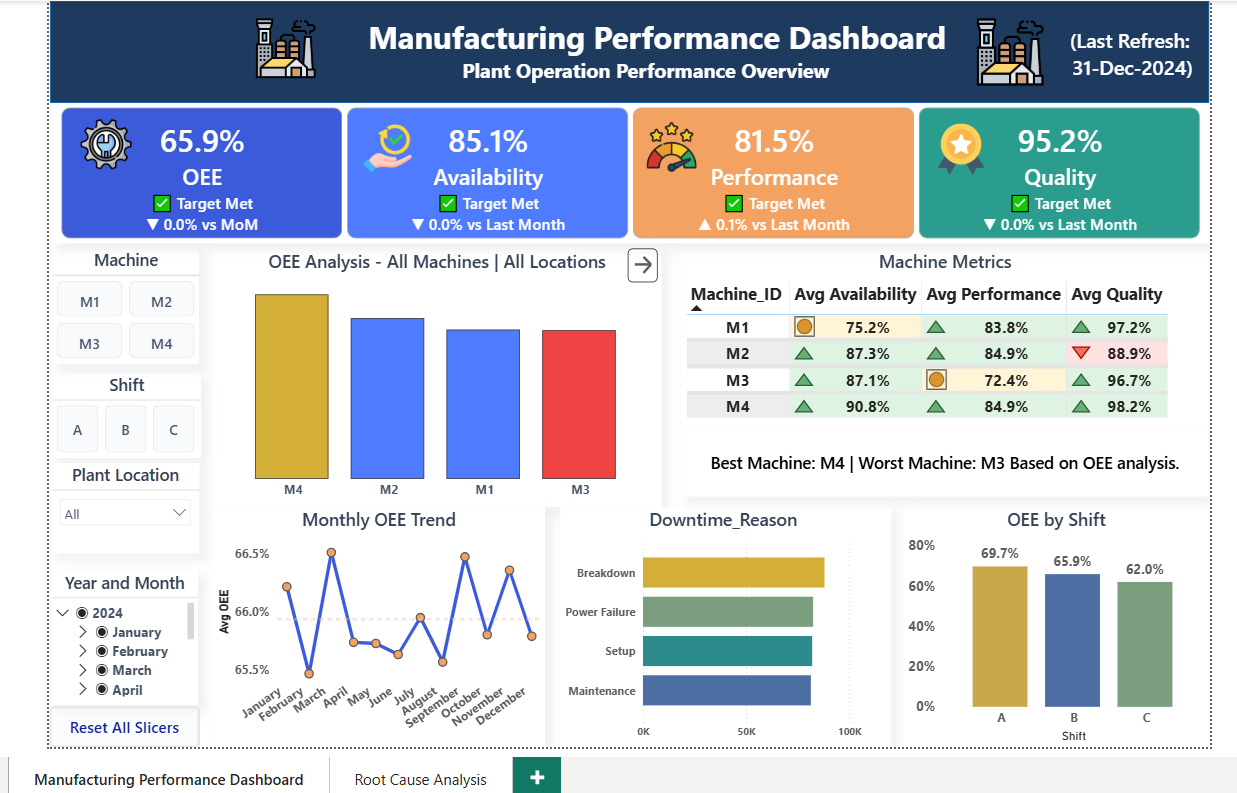

What the dashboard file says about the page in this screenshot:
{"tool":"powerbi","page":{"name":"Manufacturing Performance Dashboard ","canvas":[1400,900],"ordinal":0},"visuals":[{"type":"shape","box":[1.6,0,1398.1,123.1],"z":0},{"type":"tableEx","title":"Machine Metrics","fields":{"Values":["dim_machine.Machine_ID","fact_production.Avg Availability","fact_production.Avg Performance","fact_production.Avg Quality"]},"box":[763.8,298.2,635.9,222.5],"z":1000},{"type":"clusteredColumnChart","fields":{"Category":["dim_machine.Machine_ID"],"Y":["All Measures.Avg OEE"]},"box":[197.6,298.6,541.4,312.2],"z":2000},{"type":"textbox","box":[3.4,0,1362.9,123.1],"z":3000},{"type":"clusteredBarChart","title":"Downtime_Reason","fields":{"Category":["dim_downtime.Downtime_Reason"],"Y":["Sum(fact_production.Downtime)"]},"box":[617,610.7,399.2,288.8],"z":4000},{"type":"lineChart","title":"Monthly OEE Trend","fields":{"Category":["dim_date.Date.Variation.Date Hierarchy.Month"],"Y":["fact_production.Avg OEE"]},"box":[197.3,610.7,400.8,288.8],"z":5000},{"type":"columnChart","title":"OEE by Shift","fields":{"Category":["dim_shift.Shift"],"Y":["fact_production.Avg OEE"]},"box":[1032,610.7,367.7,288.8],"z":6000},{"type":"cardVisual","fields":{"Data":["fact_production.Avg OEE","fact_production.Avg Availability","fact_production.Avg Performance","fact_production.Avg Quality"]},"box":[4.7,123.1,1395,168.8],"z":7000},{"type":"image","box":[369.3,143.6,77.3,71],"z":8000},{"type":"image","box":[30,137.3,77.3,71],"z":9000},{"type":"image","box":[716.4,137.3,69.4,77.3],"z":10000},{"type":"image","box":[1062,143.6,77.3,71],"z":11000},{"type":"advancedSlicerVisual","title":"Machine","fields":{"Values":["dim_machine.Machine_ID"]},"box":[4.7,298.2,176.7,138.9],"z":12000},{"type":"advancedSlicerVisual","fields":{"Values":["dim_shift.Shift"]},"box":[5.1,448.7,178.8,101.2],"z":13000},{"type":"slicer","title":"Plant Location","fields":{"Values":["dim_location.Plant_Location"]},"box":[3.2,558.6,178.3,108.9],"z":14000},{"type":"listSlicer","fields":{"Values":["dim_date.Date.Variation.Date Hierarchy.Year","dim_date.Date.Variation.Date Hierarchy.Month","dim_date.Date.Variation.Date Hierarchy.Day"]},"box":[3.4,688.2,177.1,161.9],"z":15000},{"type":"card","fields":{"Values":["dim_date.Machine Insight"]},"box":[763.8,520.7,635.9,77.3],"z":16000},{"type":"image","box":[1082.9,15.2,153.5,92.8],"z":17000},{"type":"image","box":[217.6,15.2,136.6,84.3],"z":18000},{"type":"card","fields":{"Values":["All Measures.Last Refresh"]},"box":[1216.1,15.2,183.9,92.8],"z":19000},{"type":"actionButton","box":[0,850.1,182.2,50.6],"z":20000},{"type":"actionButton","box":[698.2,298.6,36.2,40.7],"z":21000}]}

Visuals, with their boxes on the page's 1400x900 design canvas (x1, y1, x2, y2). These are canvas units, not pixel positions in the 1237x793 screenshot, which may show the page scaled, cropped or inside an application window:
shape: bbox(2, 0, 1400, 123)
"Machine Metrics" tableEx: bbox(764, 298, 1400, 521)
clusteredColumnChart - dim_machine.Machine_ID x All Measures.Avg OEE: bbox(198, 299, 739, 611)
textbox: bbox(3, 0, 1366, 123)
"Downtime_Reason" clusteredBarChart: bbox(617, 611, 1016, 900)
"Monthly OEE Trend" lineChart: bbox(197, 611, 598, 900)
"OEE by Shift" columnChart: bbox(1032, 611, 1400, 900)
cardVisual - fact_production.Avg OEE x fact_production.Avg Availability: bbox(5, 123, 1400, 292)
image: bbox(369, 144, 447, 215)
image: bbox(30, 137, 107, 208)
image: bbox(716, 137, 786, 215)
image: bbox(1062, 144, 1139, 215)
"Machine" advancedSlicerVisual: bbox(5, 298, 181, 437)
advancedSlicerVisual - dim_shift.Shift: bbox(5, 449, 184, 550)
"Plant Location" slicer: bbox(3, 559, 182, 668)
listSlicer - dim_date.Date.Variation.Date Hierarchy.Year x dim_date.Date.Variation.Date Hierarchy.Month: bbox(3, 688, 180, 850)
card - dim_date.Machine Insight: bbox(764, 521, 1400, 598)
image: bbox(1083, 15, 1236, 108)
image: bbox(218, 15, 354, 100)
card - All Measures.Last Refresh: bbox(1216, 15, 1400, 108)
actionButton: bbox(0, 850, 182, 901)
actionButton: bbox(698, 299, 734, 339)
